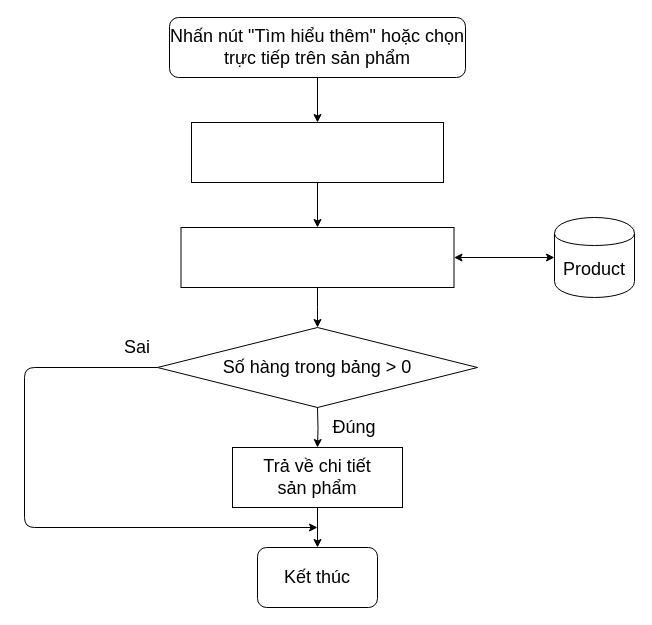
This 652x625 diagram has some shape labels left out. Each missing label, with the centre of its shape:
Chuyển tiếp đến trang chi tiết có đính kèm id param: (x=317, y=152)
Truy vấn CSDL với điều kiện product_id = id param: (x=317, y=257)
